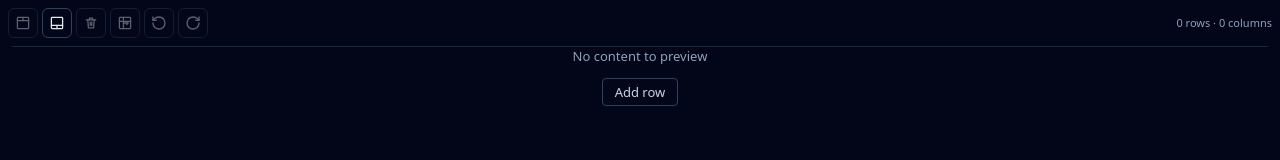
PropertiesPreview › shows a placeholder for empty content and allows adding a row
expect the element with test id "properties-preview" shows "No content to preview": met, box [573, 47, 707, 65]
Click the button "Add row": point(640, 92) [602, 78, 678, 106]
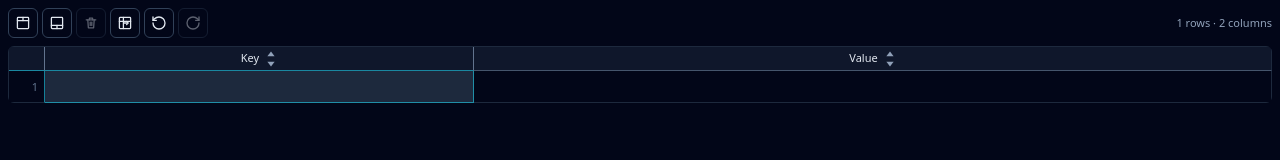
expect the text "1 rows · 2 columns" is shown: met, box [1176, 16, 1272, 30]
